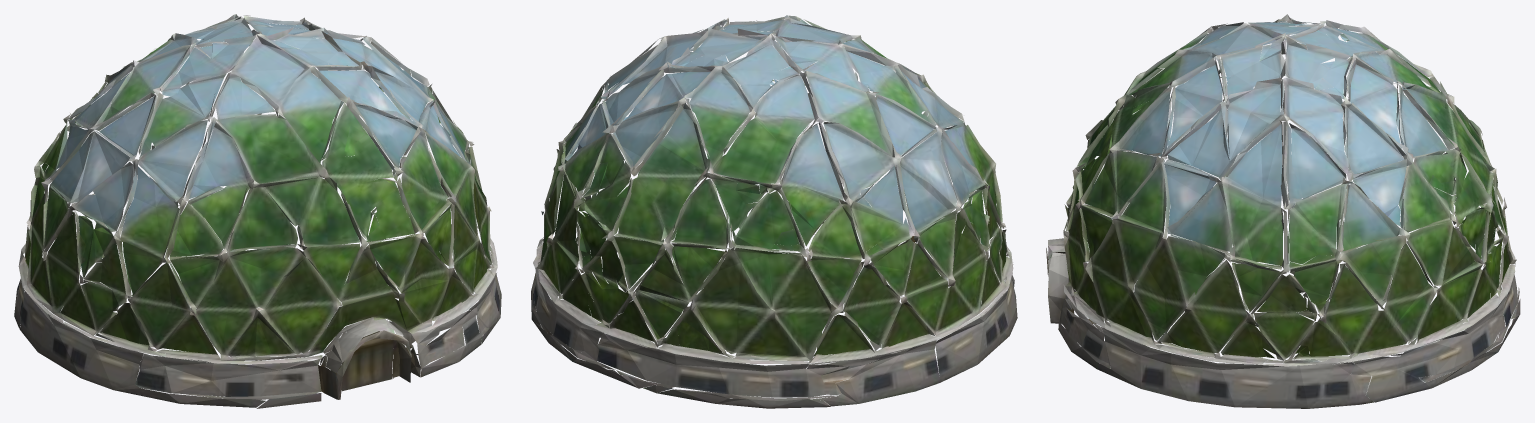
File: life.glb
3 renders of one model, left to right at view 1: azimuth 30°, elevation 25°; view 2: azimuth 150°, elevation 25°; view 3: azimuth 270°, elevation 25°, orthographic.
Parts seen in each view (by area): view 1: geometry_0; view 2: geometry_0; view 3: geometry_0.
Part boxes in pixels (x1,y1,x2,y2): geometry_0: (14, 14, 501, 408); geometry_0: (531, 15, 1017, 408); geometry_0: (1046, 14, 1520, 408).
Size of the model in its own units: 1.61 by 1 by 1.56.
1 material, 1 textured.
